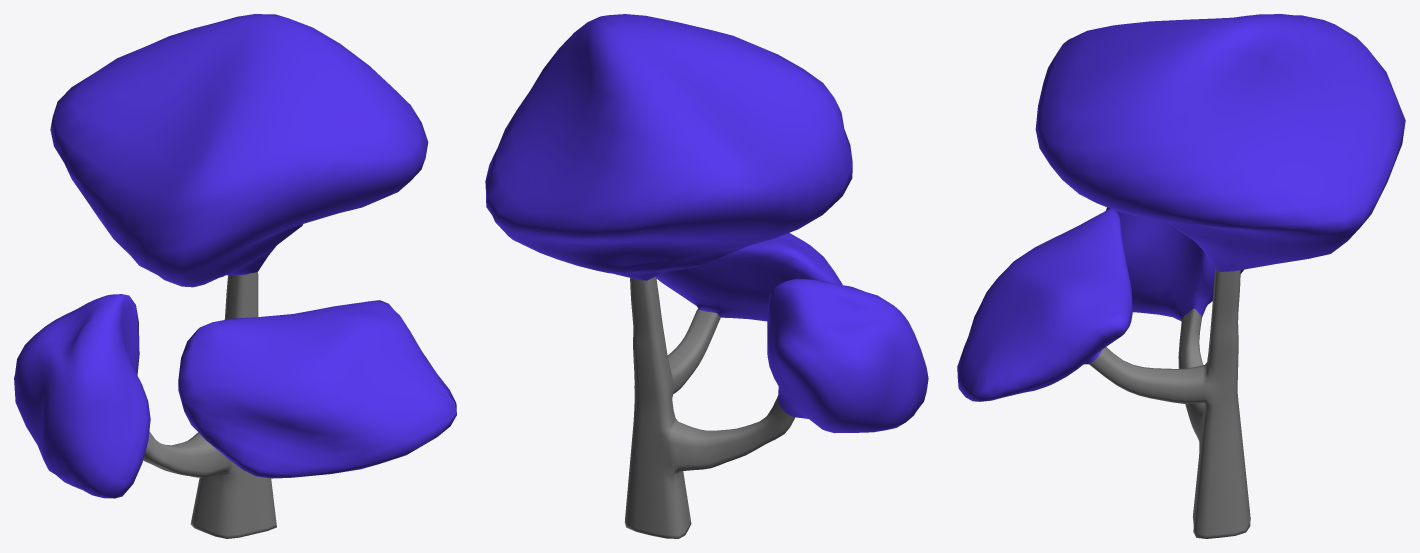
File: _ColoredTree2.FBX
3 views of the same model, side by side, from view 1: azimuth 30°, elevation 25°; view 2: azimuth 150°, elevation 25°; view 3: azimuth 270°, elevation 25° (orthographic). The views are drawn at different scales.
Parts seen in each view (by area): view 1: Tree2Baumkrone, Tree2; view 2: Tree2Baumkrone, Tree2; view 3: Tree2Baumkrone, Tree2.
Part boxes in pixels (box(x1,y1,x2,y2)): Tree2Baumkrone: box(14, 14, 456, 498); Tree2: box(143, 271, 276, 538); Tree2Baumkrone: box(485, 14, 928, 433); Tree2: box(624, 276, 795, 538); Tree2Baumkrone: box(957, 14, 1405, 401); Tree2: box(1089, 268, 1250, 538).
Bounding box in the file's own units: 497 × 624 × 488.
